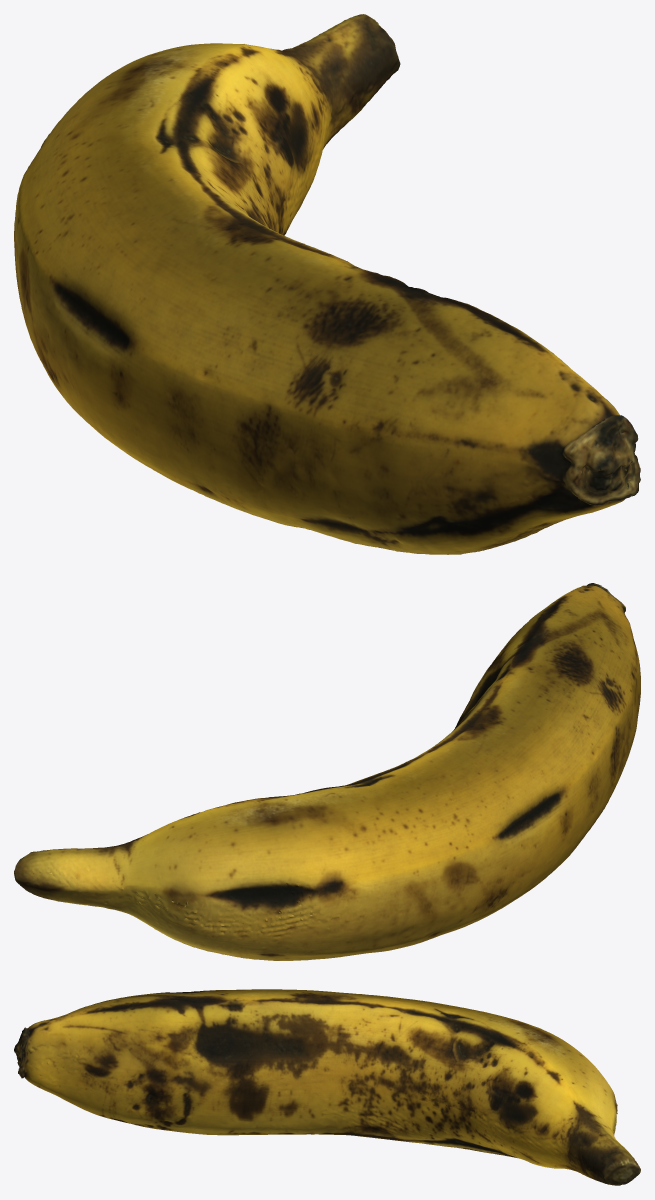
Rendered from banana.glb.
3 renders of one model, top to bottom at view 1: azimuth 30°, elevation 25°; view 2: azimuth 150°, elevation 25°; view 3: azimuth 270°, elevation 25°, orthographic. The views are drawn at different scales.
Visible parts, largest first — view 1: Object_2; view 2: Object_2; view 3: Object_2.
Part boxes in pixels (x1=…): Object_2: x1=14, y1=14, x2=640, y2=554; Object_2: x1=14, y1=583, x2=640, y2=960; Object_2: x1=14, y1=989, x2=640, y2=1185.
Size of the model in its own units: 85.26 by 40.14 by 156.
1 material, 1 textured.
